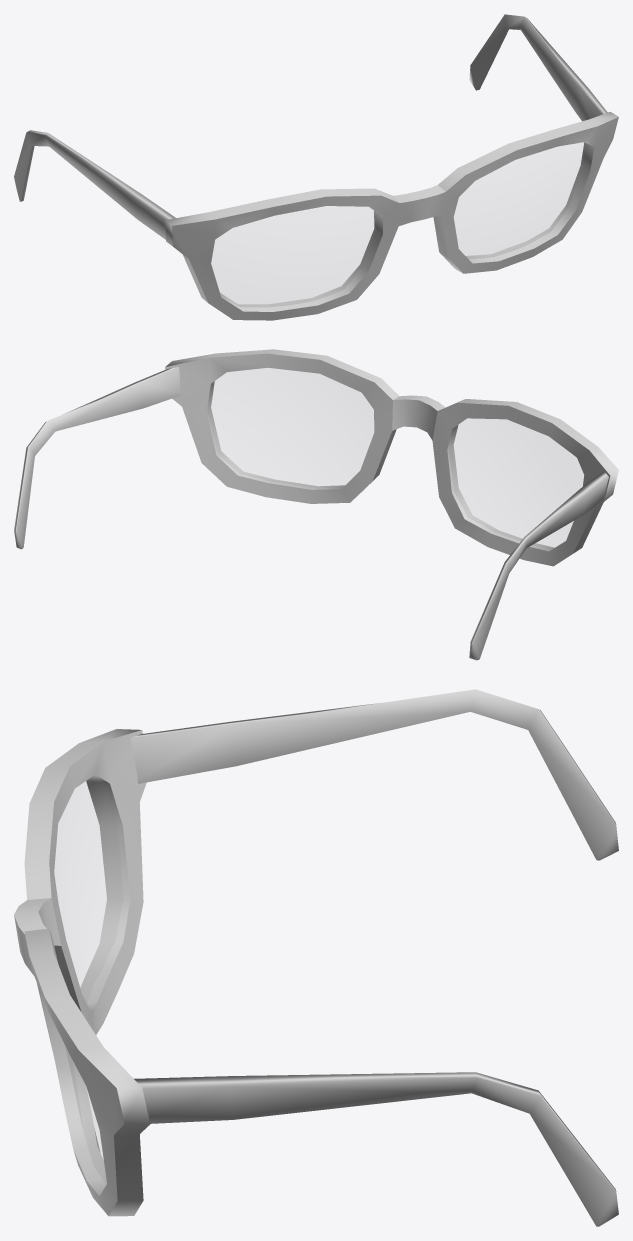
Rendered from p0_eyw0000_00_eyw00.gltf.
3 renders of one model, top to bottom at view 1: azimuth 30°, elevation 25°; view 2: azimuth 150°, elevation 25°; view 3: azimuth 270°, elevation 25°, orthographic. The views are drawn at different scales.
Parts seen in each view (by area): view 1: eyw00_frame_mesh_shape:eyewear, eyw00_temple_mesh_shape:eyewear; view 2: eyw00_frame_mesh_shape:eyewear, eyw00_temple_mesh_shape:eyewear; view 3: eyw00_temple_mesh_shape:eyewear, eyw00_frame_mesh_shape:eyewear.
Part boxes in pixels (box(x1,y1,x2,y2)): eyw00_frame_mesh_shape:eyewear: box(165, 111, 618, 320); eyw00_temple_mesh_shape:eyewear: box(14, 14, 607, 239); eyw00_frame_mesh_shape:eyewear: box(165, 349, 618, 566); eyw00_temple_mesh_shape:eyewear: box(14, 367, 608, 660); eyw00_temple_mesh_shape:eyewear: box(131, 689, 618, 1226); eyw00_frame_mesh_shape:eyewear: box(14, 729, 150, 1216).
Size of what is drawn, in the model's own units: 0.2134 by 0.0557 by 0.1408.
1 material, 1 textured.
